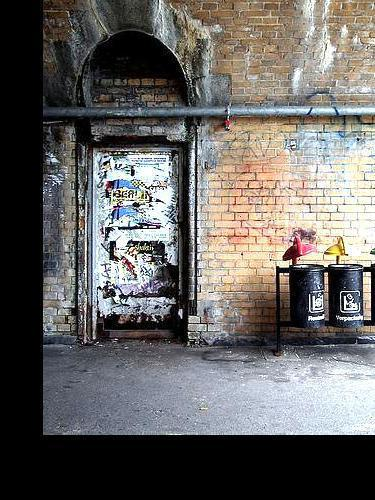Bote de Basura: (290, 260, 323, 328), (329, 263, 364, 327), (373, 260, 375, 328)
